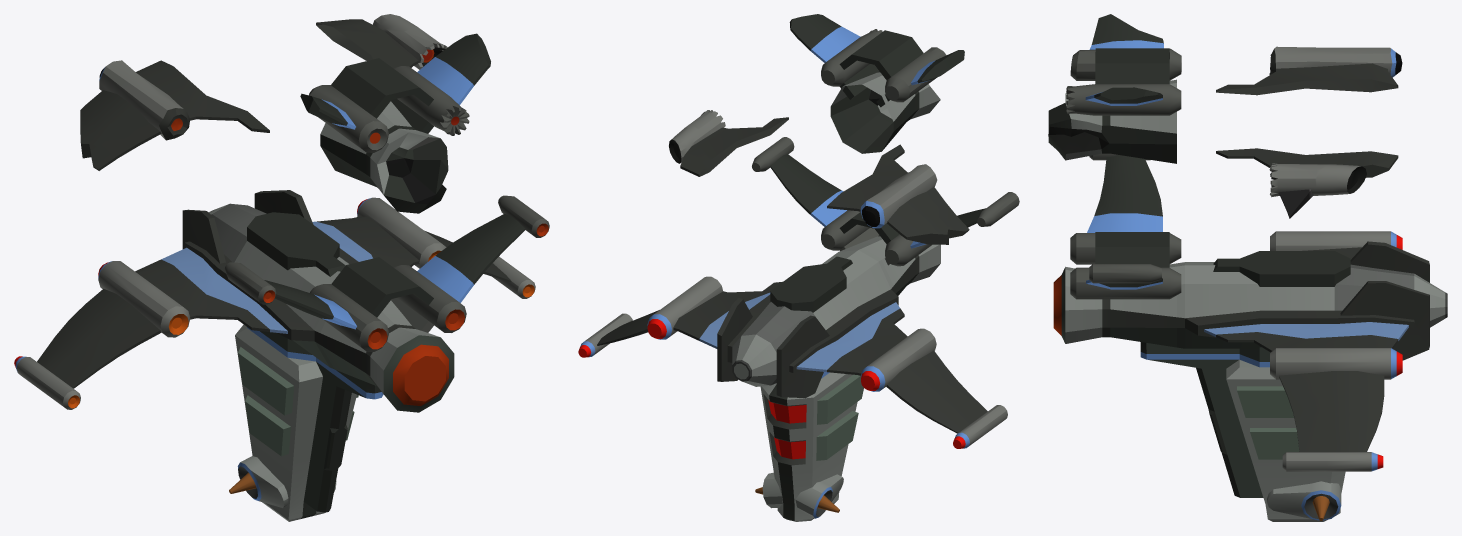
The model's file is Bomberv2.fbx.
The picture shows the model from 3 angles, left to right: view 1: azimuth 30°, elevation 25°; view 2: azimuth 150°, elevation 25°; view 3: azimuth 270°, elevation 25°; orthographic projection. The views are drawn at different scales.
Parts seen in each view (by area): view 1: Bomber Body, Bomber Rear, Bomber Rear Broken, Bomber Wing L, Bomber Wing L Broken, Bomber Wing R, Bomber Wing R Broken; view 2: Bomber Body, Bomber Rear Broken, Bomber Wing L, Bomber Rear, Bomber Wing L Broken, Bomber Wing R, Bomber Wing R Broken; view 3: Bomber Body, Bomber Rear, Bomber Wing R, Bomber Rear Broken, Bomber Wing L Broken, Bomber Wing R Broken, Bomber Wing L.
Part boxes in pixels (bbox=[...]): Bomber Body: bbox=[161, 190, 383, 521]; Bomber Rear: bbox=[224, 195, 549, 412]; Bomber Rear Broken: bbox=[300, 33, 490, 213]; Bomber Wing L: bbox=[14, 259, 269, 409]; Bomber Wing L Broken: bbox=[80, 60, 269, 170]; Bomber Wing R: bbox=[317, 197, 535, 298]; Bomber Wing R Broken: bbox=[316, 14, 447, 69]; Bomber Body: bbox=[699, 248, 899, 521]; Bomber Rear Broken: bbox=[789, 14, 964, 153]; Bomber Wing L: bbox=[827, 308, 1007, 448]; Bomber Rear: bbox=[752, 137, 1019, 295]; Bomber Wing L Broken: bbox=[827, 144, 969, 244]; Bomber Wing R: bbox=[578, 276, 782, 357]; Bomber Wing R Broken: bbox=[669, 110, 788, 176]; Bomber Body: bbox=[1140, 241, 1447, 521]; Bomber Rear: bbox=[1053, 153, 1181, 347]; Bomber Wing R: bbox=[1216, 332, 1402, 471]; Bomber Rear Broken: bbox=[1048, 14, 1181, 163]; Bomber Wing L Broken: bbox=[1216, 46, 1402, 95]; Bomber Wing R Broken: bbox=[1216, 148, 1398, 218]; Bomber Wing L: bbox=[1270, 231, 1402, 259].
Bounding box in the file's own units: 124 × 98.53 × 128.
